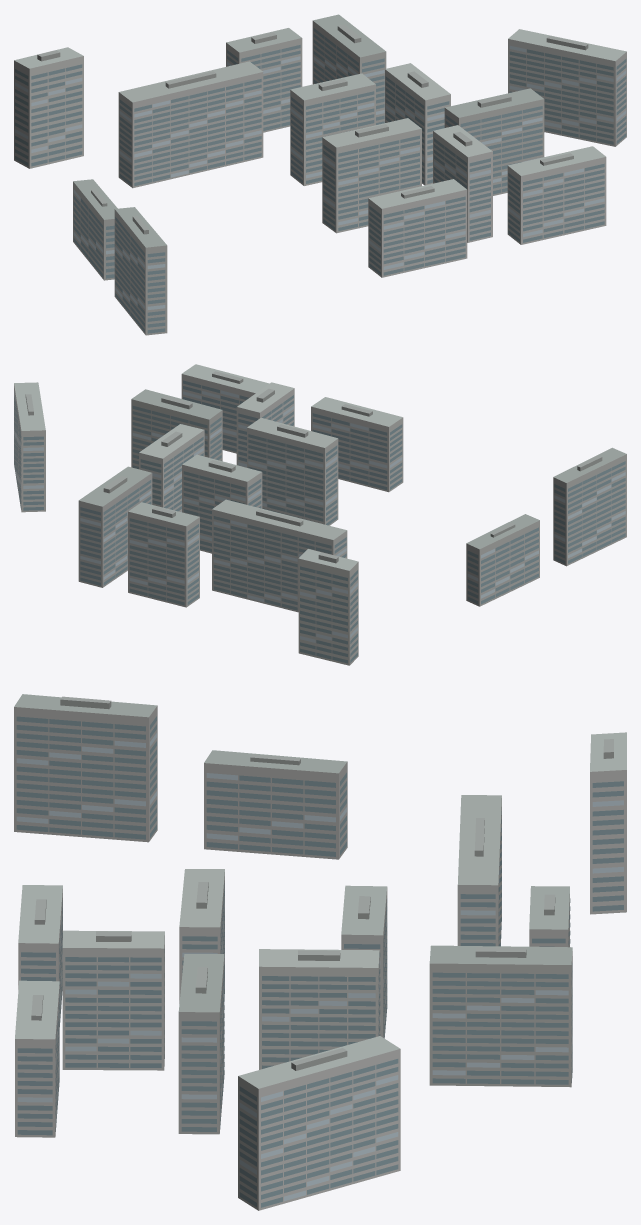
The model's file is apt-a13983713.glb.
The picture shows the model from 3 angles, top to bottom: view 1: azimuth 30°, elevation 25°; view 2: azimuth 150°, elevation 25°; view 3: azimuth 270°, elevation 25°; orthographic projection. The views are drawn at different scales.
Parts seen in each view (by area): view 1: apt-a13983713; view 2: apt-a13983713; view 3: apt-a13983713.
Part boxes in pixels (left/top/right/bottom): apt-a13983713: left=14, top=14, right=626, bottom=335; apt-a13983713: left=14, top=364, right=626, bottom=665; apt-a13983713: left=14, top=694, right=626, bottom=1210.
Bounding box in the file's own units: 270 × 47.81 × 178.
